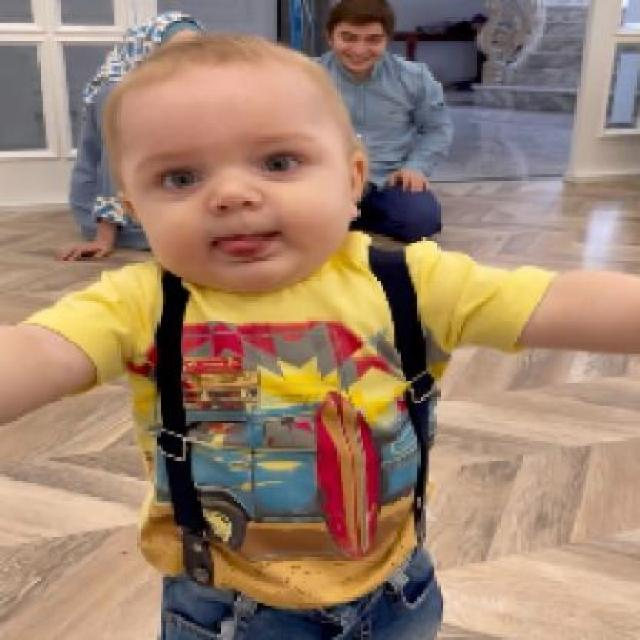child: (0, 32, 637, 638)
